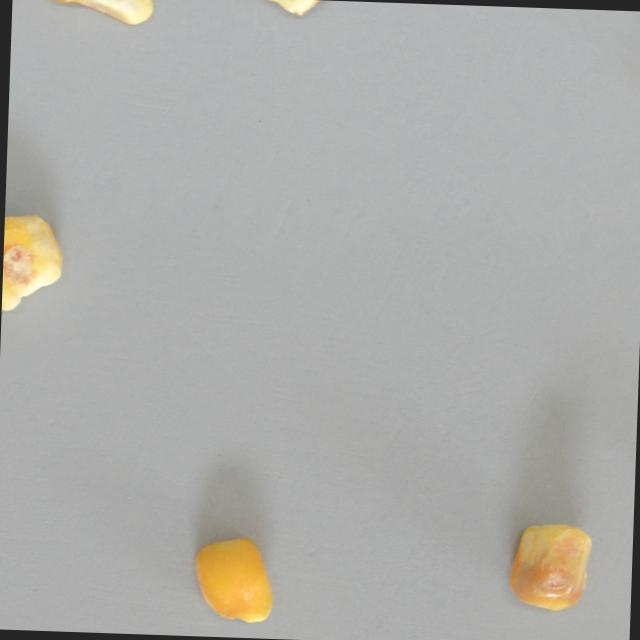dañado: (503, 519, 595, 612), (0, 212, 65, 311)
no_canjicado: (192, 535, 274, 622)
pelicula: (35, 0, 154, 26), (261, 0, 359, 18)
